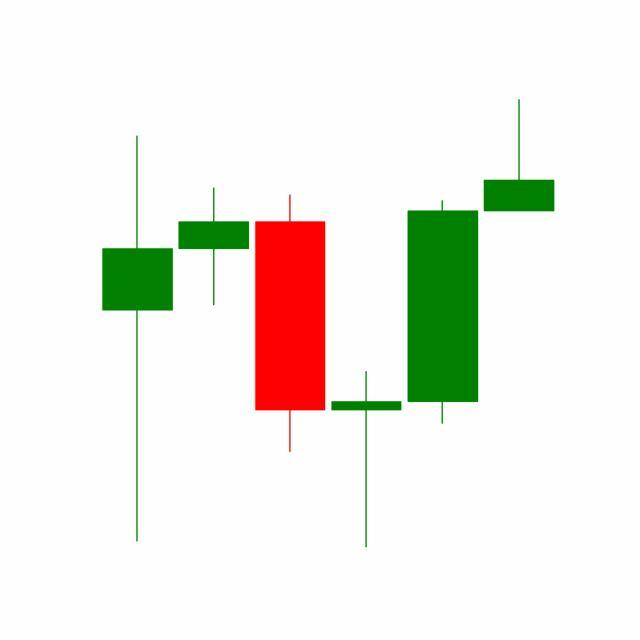Marubozu: (404, 198, 482, 427)
